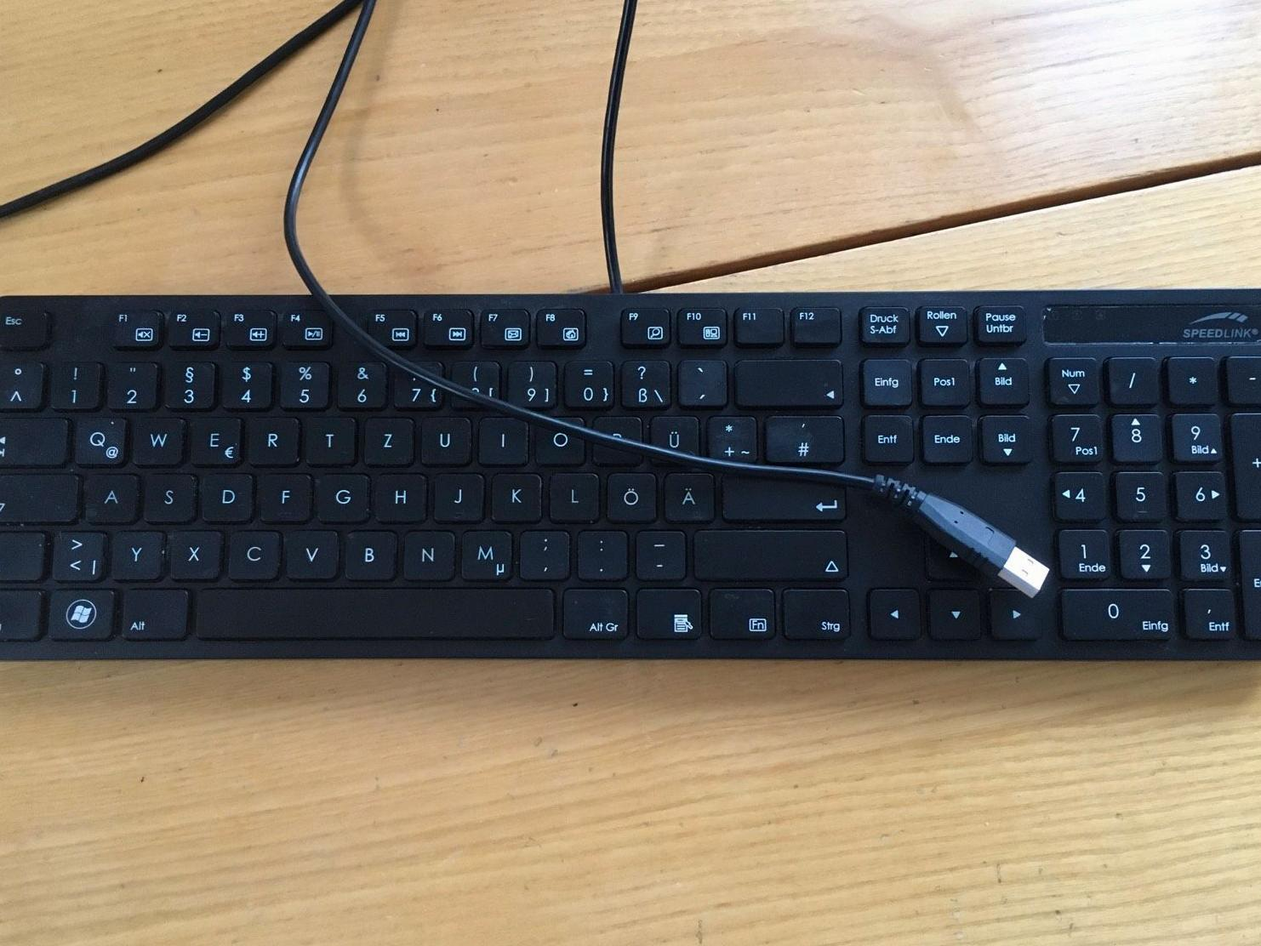0: (562, 358, 614, 410)
1: (46, 356, 100, 407)
2: (104, 357, 157, 407)
3: (161, 356, 214, 407)
4: (219, 356, 271, 407)
5: (277, 356, 328, 407)
6: (334, 356, 385, 407)
7: (390, 362, 442, 407)
8: (448, 360, 500, 407)
9: (506, 358, 558, 408)
a: (82, 469, 136, 521)
accent: (679, 356, 729, 406)
ae: (660, 467, 712, 520)
alt-left: (117, 584, 187, 638)
altgr-right: (558, 584, 628, 640)
b: (340, 526, 395, 578)
c: (224, 526, 278, 578)
caret: (1, 359, 43, 407)
comma: (516, 525, 568, 578)
d: (197, 468, 252, 521)
del: (735, 357, 842, 408)
e: (186, 411, 239, 464)
enter: (717, 470, 846, 520)
f: (256, 468, 310, 520)
g: (312, 468, 367, 521)
h: (371, 468, 425, 520)
hash: (762, 412, 844, 463)
i: (475, 412, 526, 462)
j: (430, 468, 482, 520)
k: (488, 468, 540, 520)
keyboard: (1, 279, 1261, 668)
l: (545, 468, 597, 520)
less: (49, 526, 102, 578)
m: (457, 525, 510, 578)
minus: (631, 526, 683, 577)
n: (399, 525, 454, 578)
o: (531, 422, 585, 464)
oe: (602, 468, 655, 521)
p: (590, 417, 645, 464)
plus: (706, 414, 758, 466)
point: (573, 526, 626, 578)
q: (69, 411, 125, 464)
r: (243, 411, 298, 464)
s: (140, 469, 194, 521)
shift-left: (1, 527, 43, 580)
shift-lock: (1, 469, 77, 521)
shift-right: (692, 530, 847, 583)
space: (195, 584, 558, 641)
ss: (623, 357, 674, 408)
strg-left: (1, 586, 40, 641)
strg-right: (778, 584, 850, 640)
t: (301, 411, 353, 462)
tab: (1, 413, 65, 464)
u: (417, 411, 470, 464)
ue: (648, 413, 700, 463)
v: (282, 525, 337, 578)
w: (128, 410, 182, 464)
x: (166, 526, 219, 577)
y: (107, 526, 161, 578)
z: (359, 413, 412, 464)
